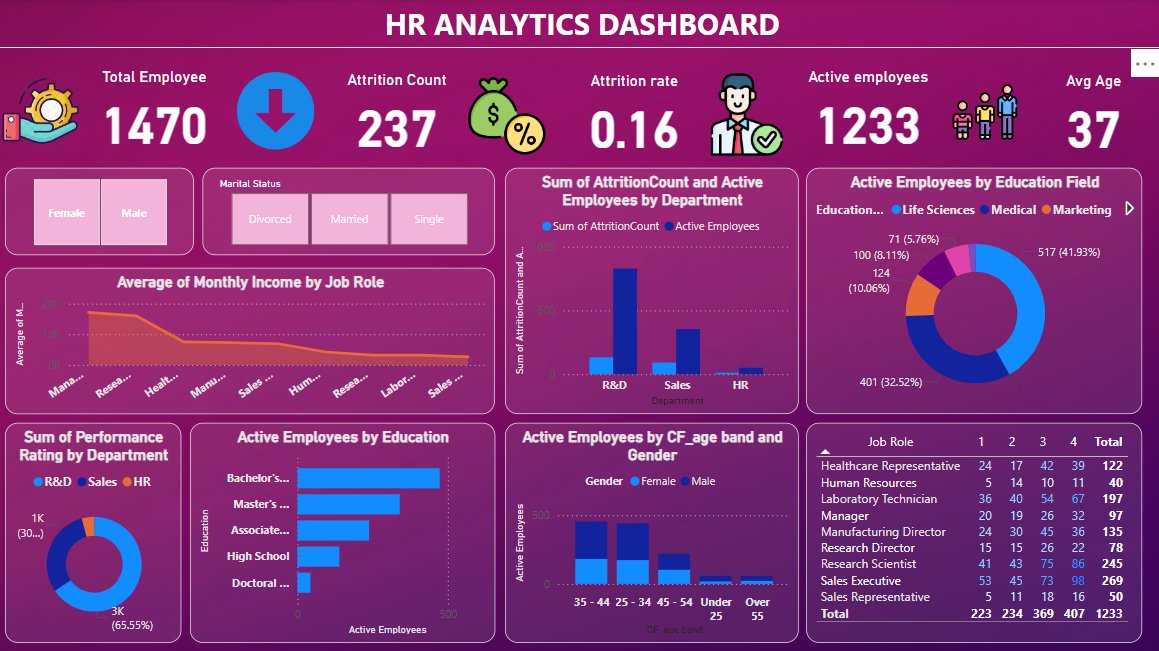

This screenshot's page, from the dashboard's own definition file:
{"tool":"powerbi","page":{"name":"Page 1","canvas":[1280,720],"ordinal":0},"visuals":[{"type":"card","title":"Total Employee","fields":{"Values":["Sum(HR data.Employee Count)"]},"box":[91.9,75.5,166,94.7],"z":0},{"type":"card","title":"Attrition Count","fields":{"Values":["Sum(HR data.AttritionCount)"]},"box":[358.1,78.2,166,94.7],"z":1000},{"type":"card","title":"Attrition rate","fields":{"Values":["HR data.Attrition Rate"]},"box":[618.9,79.6,166,94.7],"z":2000},{"type":"card","title":"Avg Age","fields":{"Values":["Avg(HR data.Age)"]},"box":[1132.1,79.6,148.2,94.7],"z":3000},{"type":"card","title":"Active employees","fields":{"Values":["HR data.Active Employees"]},"box":[875.5,75.5,166,94.7],"z":4000},{"type":"clusteredColumnChart","fields":{"Category":["HR data.Department"],"Y":["Sum(HR data.AttritionCount)","HR data.Active Employees"]},"box":[559.9,185.2,322.5,270.3],"z":5000},{"type":"donutChart","fields":{"Y":["HR data.Active Employees"],"Category":["HR data.Education Field"]},"box":[890.6,185.2,369.1,270.3],"z":6000},{"type":"columnChart","fields":{"Y":["HR data.Active Employees"],"Category":["HR data.CF_age band"],"Series":["HR data.Gender"]},"box":[559.9,465.2,322.5,241.5],"z":7000},{"type":"pivotTable","fields":{"Rows":["HR data.Job Role"],"Columns":["HR data.Job Satisfaction"],"Values":["HR data.Active Employees"]},"box":[890.6,465.2,369.1,241.5],"z":8000},{"type":"donutChart","fields":{"Category":["HR data.Department"],"Y":["Sum(HR data.Performance Rating)"]},"box":[11,465.2,193.5,241.5],"z":9000},{"type":"clusteredBarChart","fields":{"Category":["HR data.Education"],"Y":["HR data.Active Employees"]},"box":[214.1,465.2,334.8,241.5],"z":10000},{"type":"areaChart","fields":{"Category":["HR data.Job Role"],"Y":["Avg(HR data.Monthly Income)"]},"box":[11,295,537.9,160.5],"z":11000},{"type":"slicer","fields":{"Values":["HR data.Gender"]},"box":[11,185.2,207.2,96.1],"z":12000},{"type":"slicer","fields":{"Values":["HR data.Marital Status"]},"box":[227.8,185.2,321.1,96.1],"z":13000},{"type":"image","box":[1041.5,83.7,90.6,81],"z":14000},{"type":"image","box":[775.3,76.8,100.2,100.2],"z":15000},{"type":"image","box":[258,72.7,100.2,100.2],"z":16000},{"type":"image","box":[511.8,78.2,100.2,100.2],"z":17000},{"type":"image","box":[0,72.7,100.2,100.2],"z":18000},{"type":"textbox","box":[0,0,1280.3,53.5],"z":19000}]}

Visuals, with their boxes in screenshot pixels (x1, y1, x2, y2), scaled from the page's 1280x720 canvas onto the 1159x651 screenshot:
"Total Employee" card: detection(83, 68, 234, 154)
"Attrition Count" card: detection(324, 71, 475, 156)
"Attrition rate" card: detection(560, 72, 711, 158)
"Avg Age" card: detection(1025, 72, 1158, 158)
"Active employees" card: detection(793, 68, 943, 154)
clusteredColumnChart - HR data.Department x Sum(HR data.AttritionCount): detection(507, 167, 799, 412)
donutChart - HR data.Active Employees x HR data.Education Field: detection(806, 167, 1141, 412)
columnChart - HR data.Active Employees x HR data.CF_age band: detection(507, 421, 799, 639)
pivotTable - HR data.Job Role x HR data.Job Satisfaction: detection(806, 421, 1141, 639)
donutChart - HR data.Department x Sum(HR data.Performance Rating): detection(10, 421, 185, 639)
clusteredBarChart - HR data.Education x HR data.Active Employees: detection(194, 421, 497, 639)
areaChart - HR data.Job Role x Avg(HR data.Monthly Income): detection(10, 267, 497, 412)
slicer - HR data.Gender: detection(10, 167, 198, 254)
slicer - HR data.Marital Status: detection(206, 167, 497, 254)
image: detection(943, 76, 1025, 149)
image: detection(702, 69, 793, 160)
image: detection(234, 66, 324, 156)
image: detection(463, 71, 554, 161)
image: detection(0, 66, 91, 156)
textbox: detection(0, 0, 1158, 48)
